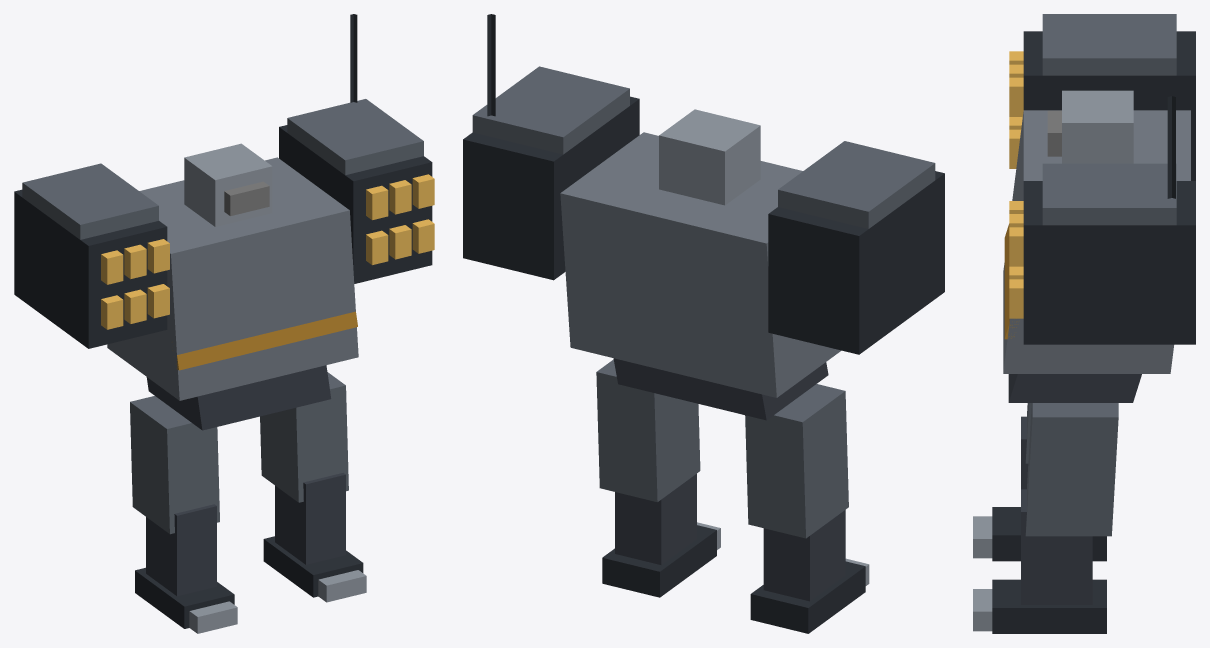
Rendered from javelin-attack-2.obj.
3 views of the same model, side by side, from view 1: azimuth 30°, elevation 25°; view 2: azimuth 150°, elevation 25°; view 3: azimuth 270°, elevation 25° (orthographic). The views are drawn at different scales.
Parts seen in each view (by area): view 1: javelin-attack-2; view 2: javelin-attack-2; view 3: javelin-attack-2.
Part boxes in pixels (x1,y1,x2,y2): javelin-attack-2: (14,14,434,633); javelin-attack-2: (463,14,944,633); javelin-attack-2: (973,14,1195,633).
Bounding box in the file's own units: 1.92 × 2.65 × 0.9312.
